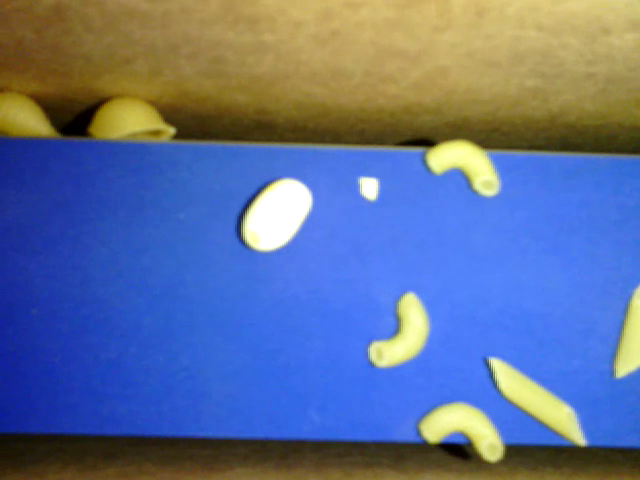elbow: (417, 400, 505, 463), (424, 139, 499, 196), (371, 291, 425, 369)
penne: (485, 355, 587, 445), (615, 284, 639, 378)
shell: (88, 98, 173, 145), (1, 91, 65, 140)
